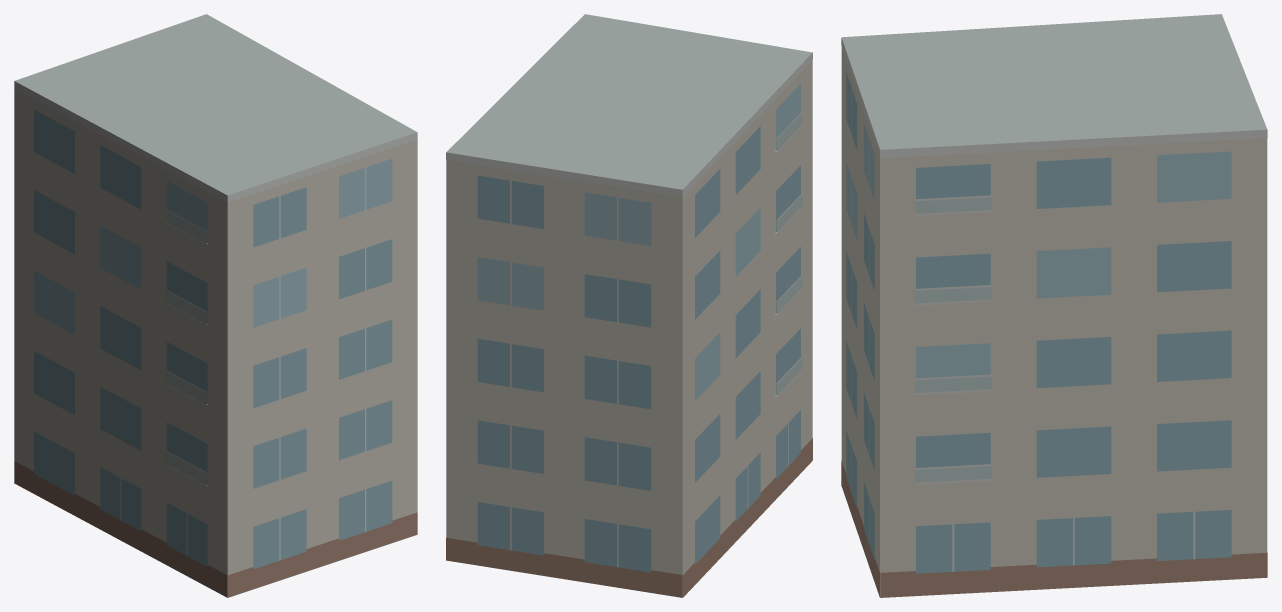
File: survey-upis-32849903.glb
3 views of the same model, side by side, from view 1: azimuth 30°, elevation 25°; view 2: azimuth 150°, elevation 25°; view 3: azimuth 270°, elevation 25° (orthographic). The views are drawn at different scales.
Visible parts, largest first — view 1: survey-upis-32849903.tmp; view 2: survey-upis-32849903.tmp; view 3: survey-upis-32849903.tmp.
Part boxes in pixels (x1,y1,x2,y2): survey-upis-32849903.tmp: (14,14,417,597); survey-upis-32849903.tmp: (446,14,812,597); survey-upis-32849903.tmp: (841,14,1267,597).
Bounding box in the file's own units: 8.59 × 13.2 × 11.39.
